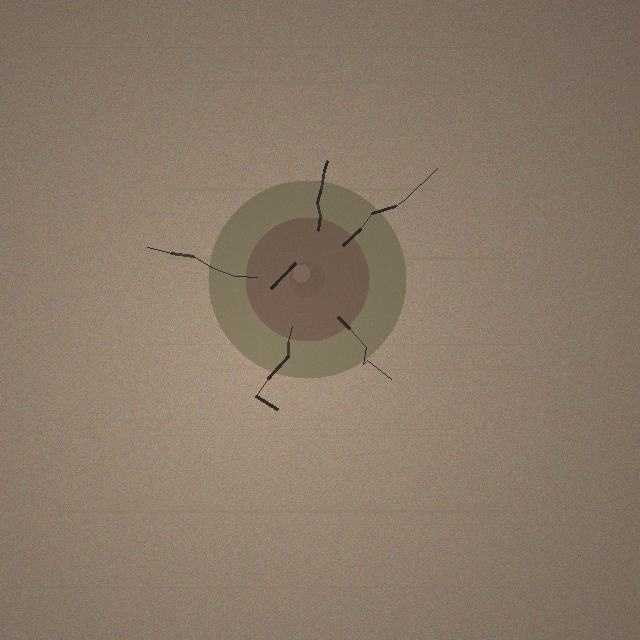crack: (208, 180, 406, 378)
